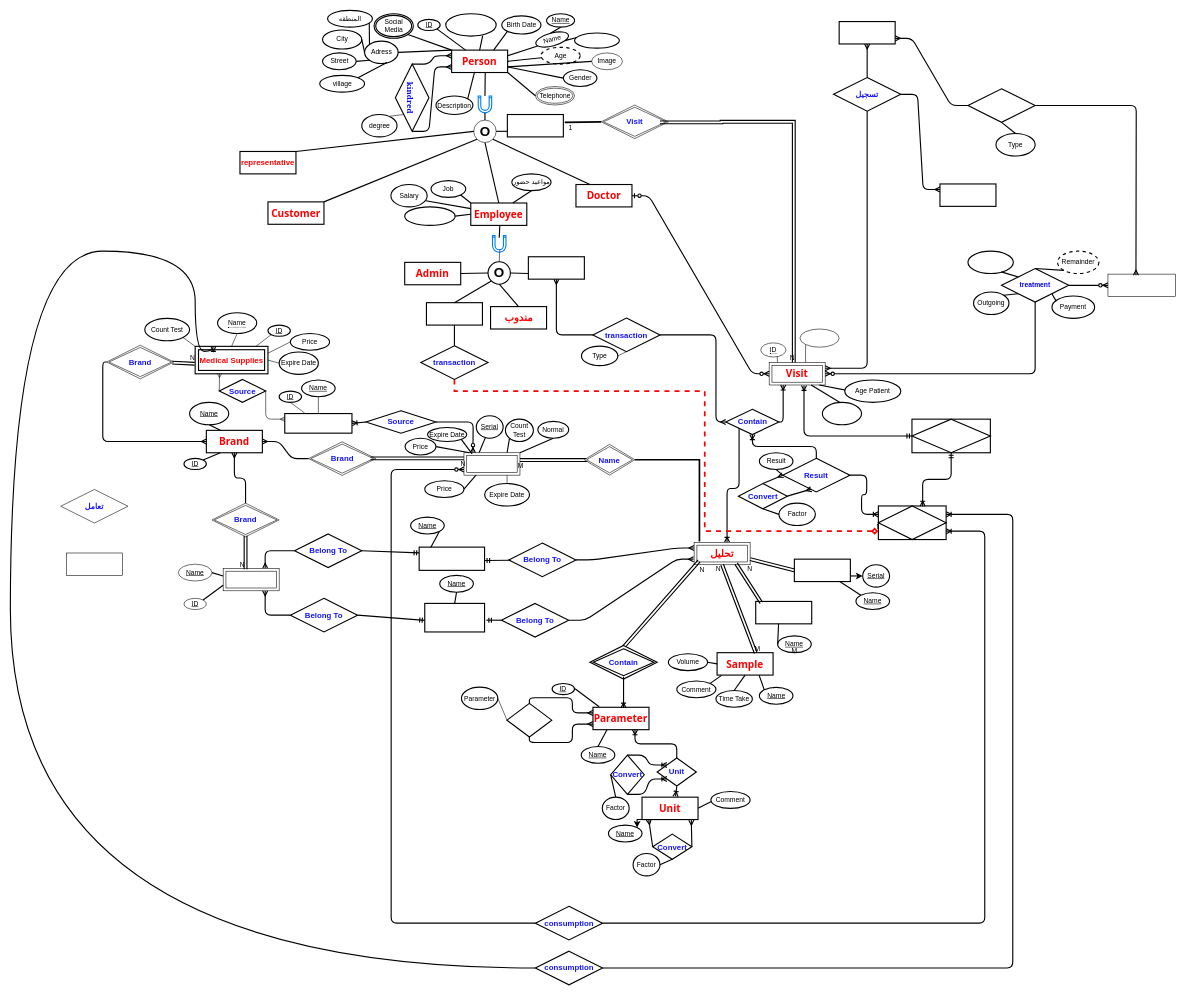
This 1186x995 diagram has some shape labels left out. The centre of each missing label's shape, as x and y in pixels:
"Calculation" belongs at (1141,285).
"Compony" belongs at (318,423).
"Date" belongs at (819,337).
"Egyption ID" belongs at (470,24).
"Family Name" belongs at (597,40).
"Kat" belongs at (491,463).
"Main Category" belongs at (451,558).
"Patient" belongs at (535,125).
"Permissions" belongs at (429,216).
"Product" belongs at (251,579).
"Reciption" belongs at (556,267).
"Relation" belongs at (529,720).
"Relationship" belongs at (1001,105).
"Report" belongs at (951,435).
"Required" belongs at (990,262).
"Run" belongs at (912,522).
"Spicialiste" belongs at (454,313).
"Sub Category" belongs at (454,617).
"Technic" belongs at (783,612).
"Title" belongs at (842,413).
"الجهاز" belongs at (822,570).
"حجز" belongs at (967,195).
"مخزن" belongs at (94,563).
"نشاط" belongs at (866,32).
